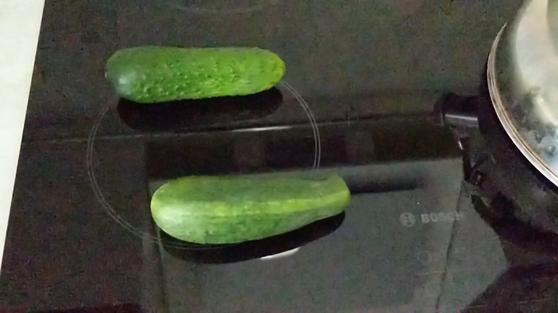cucumber: (147, 165, 347, 243), (96, 49, 290, 104)
